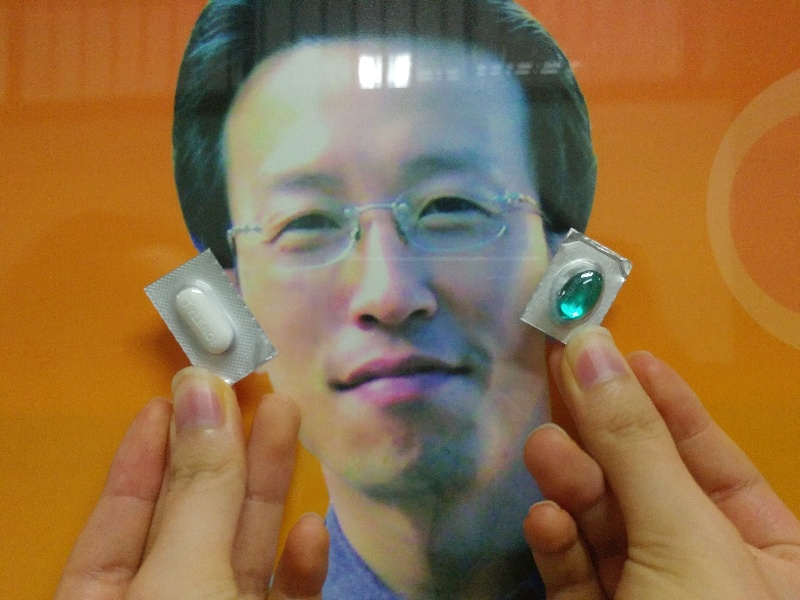pill_ezn: (519, 230, 628, 345)
pill_tylenol: (144, 249, 275, 390)
